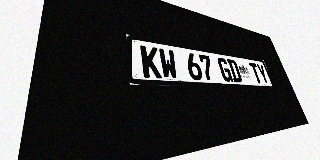6: (184, 52, 204, 80)
7: (198, 54, 216, 81)
D: (226, 59, 243, 82)
G: (216, 57, 233, 82)
K: (140, 45, 162, 78)
T: (248, 62, 263, 83)
W: (158, 48, 179, 79)
Y: (256, 63, 270, 84)
